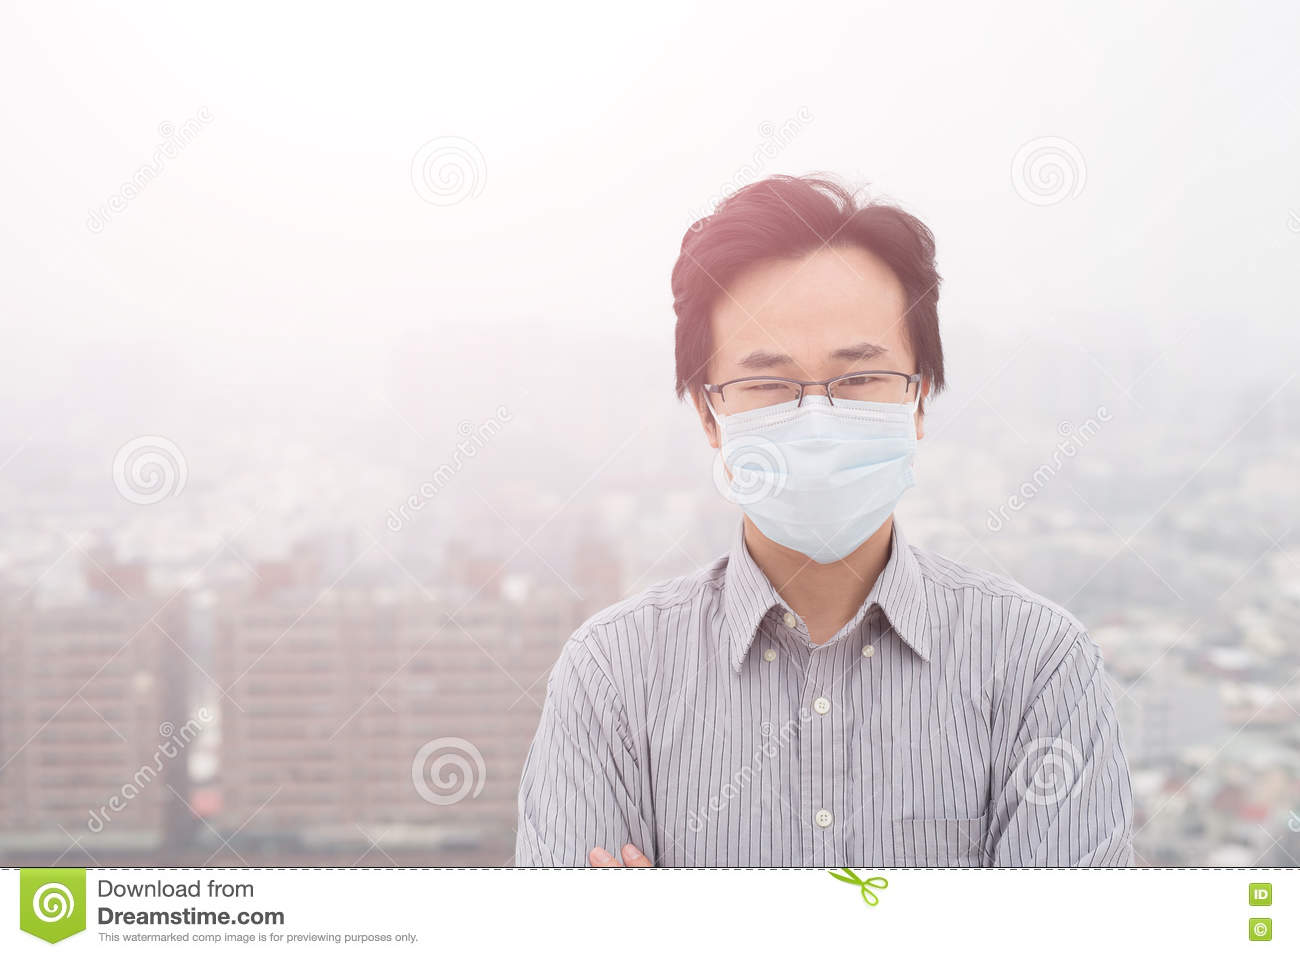mask: (725, 398, 922, 567)
